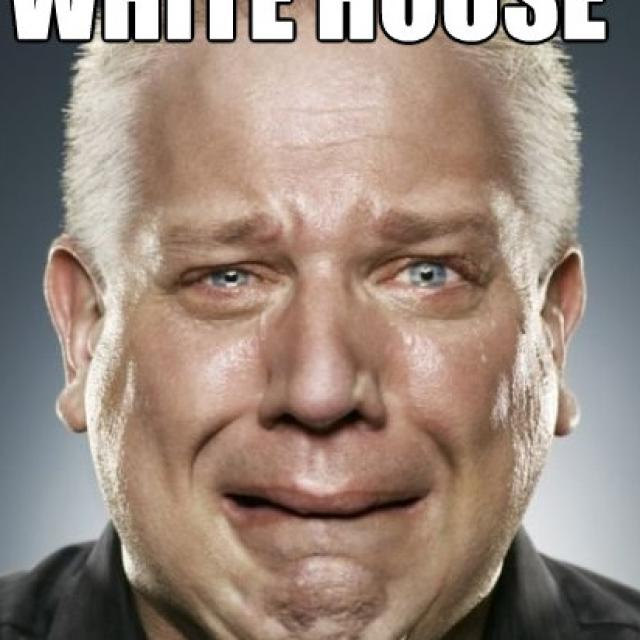Depress: (81, 41, 561, 638)
